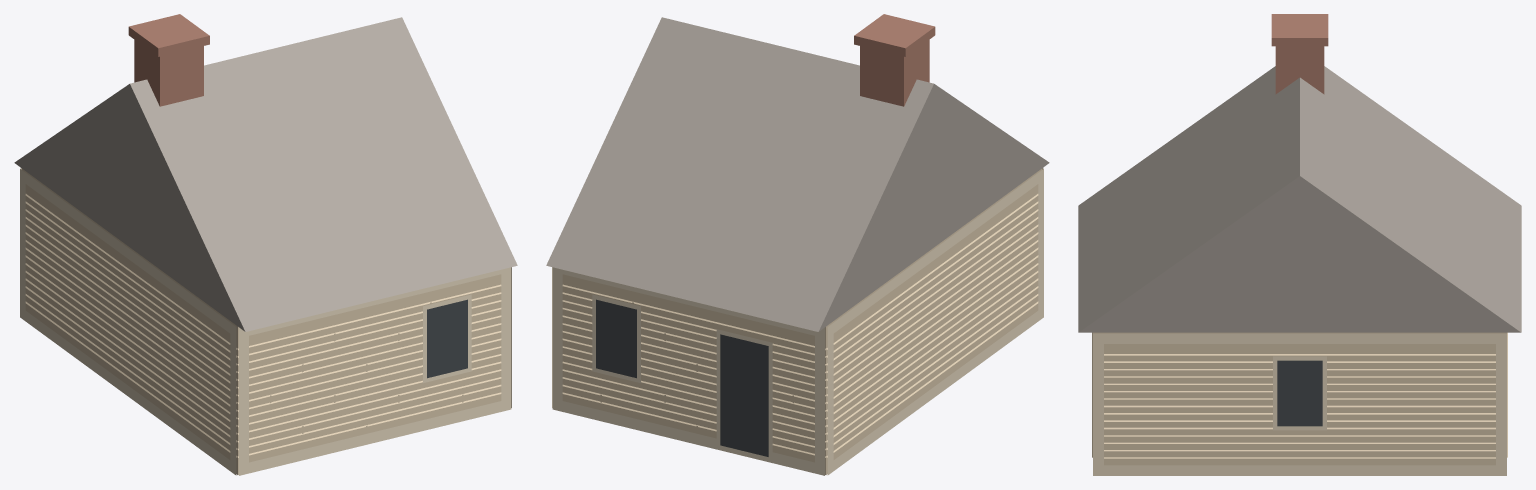
Rendered from recon_1835_blk_south_water_franklin_d3_03__inferred_1835.glb.
3 renders of one model, left to right at view 1: azimuth 30°, elevation 25°; view 2: azimuth 150°, elevation 25°; view 3: azimuth 270°, elevation 25°, orthographic. The views are drawn at different scales.
Visible parts, largest first — view 1: recon_1835_blk_south_water_franklin_d3_03__inferred_1835; view 2: recon_1835_blk_south_water_franklin_d3_03__inferred_1835; view 3: recon_1835_blk_south_water_franklin_d3_03__inferred_1835.
Boxes of the visible parts, x1,y1,x2,y2 form: recon_1835_blk_south_water_franklin_d3_03__inferred_1835: [14, 14, 517, 475]; recon_1835_blk_south_water_franklin_d3_03__inferred_1835: [546, 14, 1049, 475]; recon_1835_blk_south_water_franklin_d3_03__inferred_1835: [1078, 14, 1521, 475].
Size of the model in its own units: 5.26 by 6.46 by 7.63.
